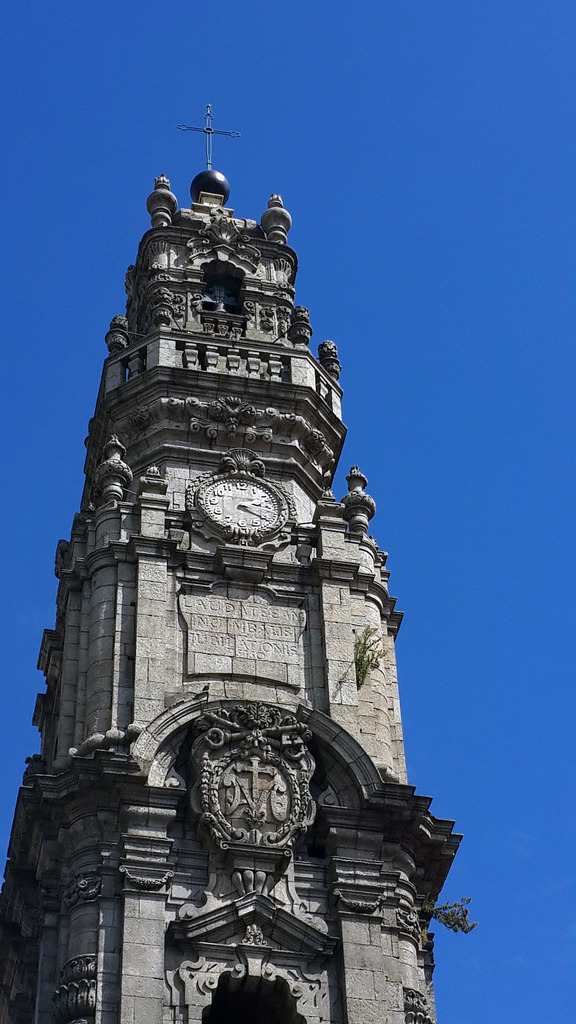clerigos: (0, 102, 464, 1023)
